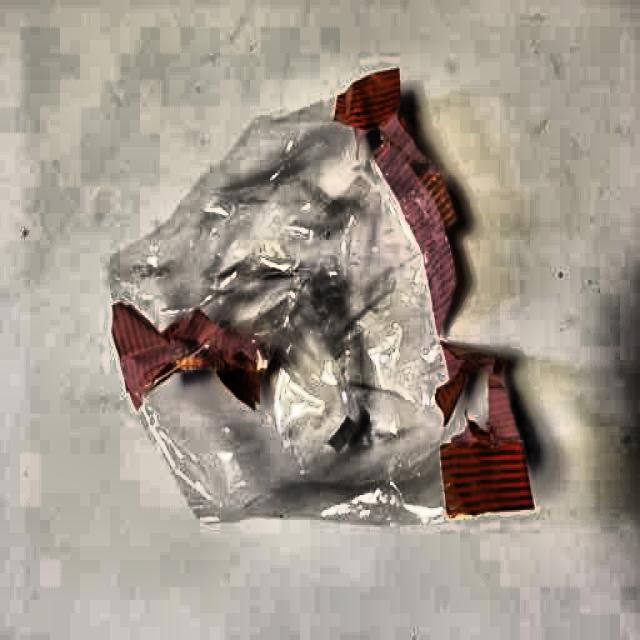paper: (106, 60, 538, 528)
